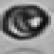correct: (0, 0, 51, 45)
